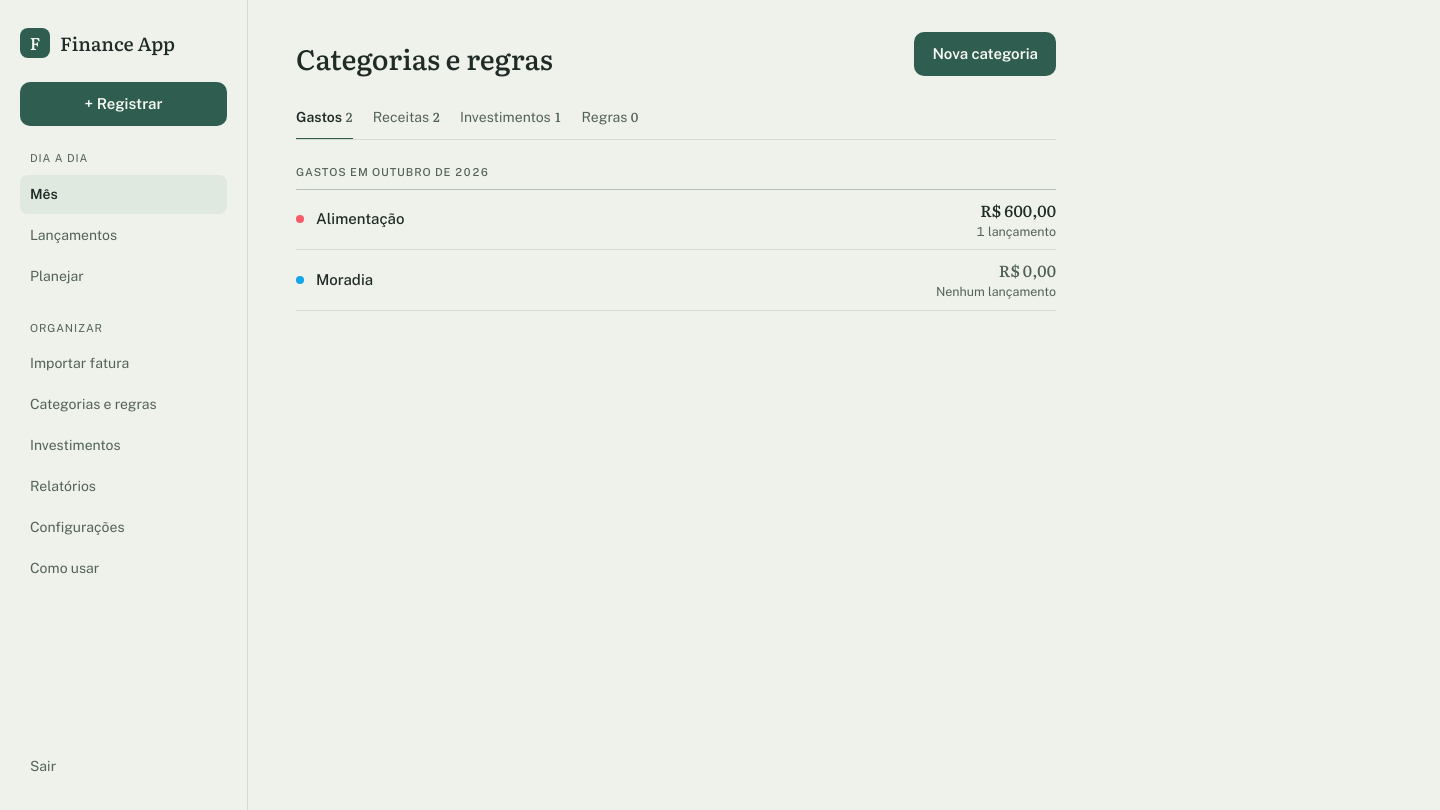
Scenario: Página de categorias › as métricas casam por nome E tipo: receita com o mesmo nome não entra na categoria de gasto
Check: the button with aria-label "Alimentação, " shows "R$ 600,00", box [288,190,1064,249]
Check: the button with aria-label "Alimentação, " shows "1 lançamento", box [288,190,1064,249]
Click the tab "Receitas 2".
click(406, 118)  # box [373,96,440,140]
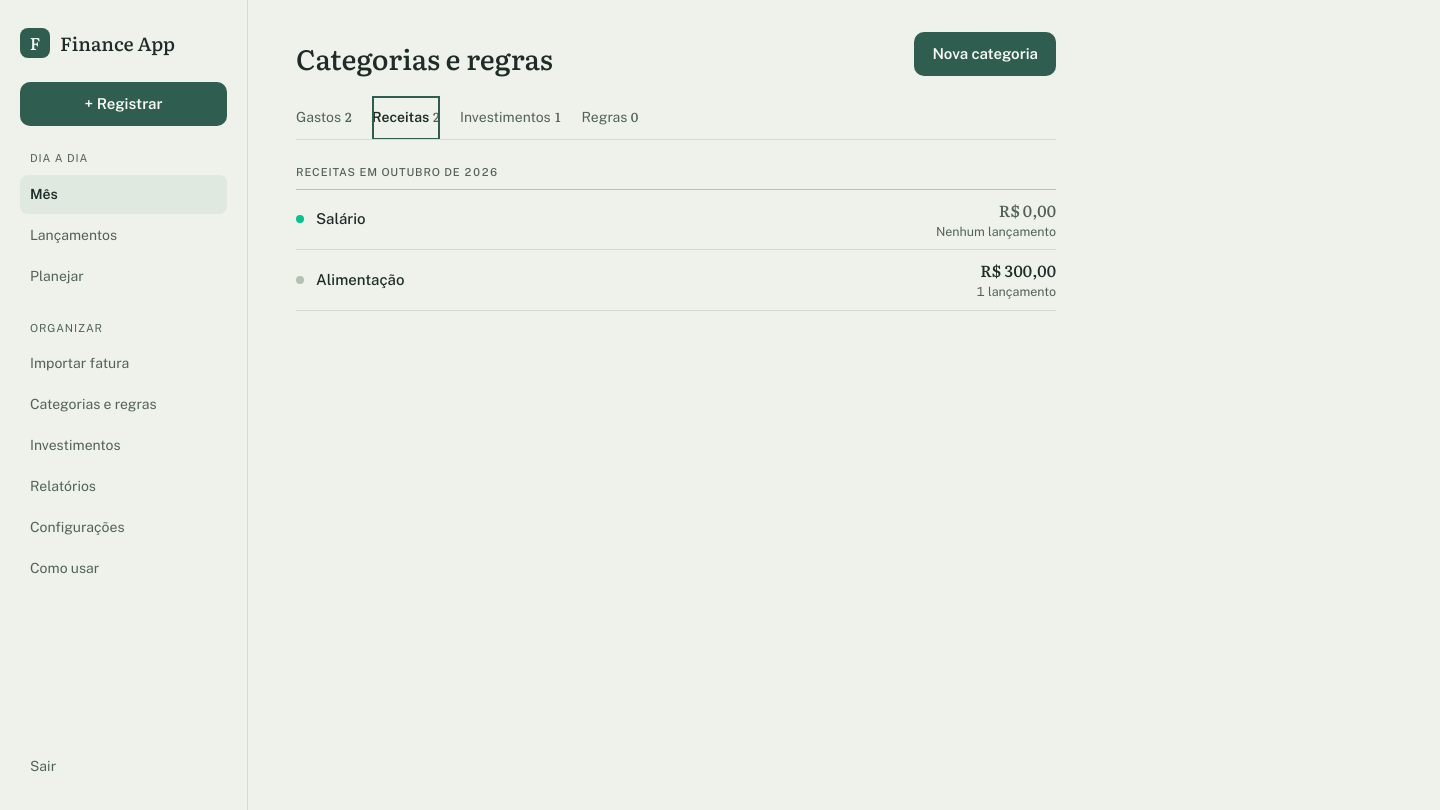
Check: the button with aria-label "Alimentação, " shows "R$ 300,00", box [288,250,1064,310]
Check: the button with aria-label "Alimentação, " shows "1 lançamento", box [288,250,1064,310]
